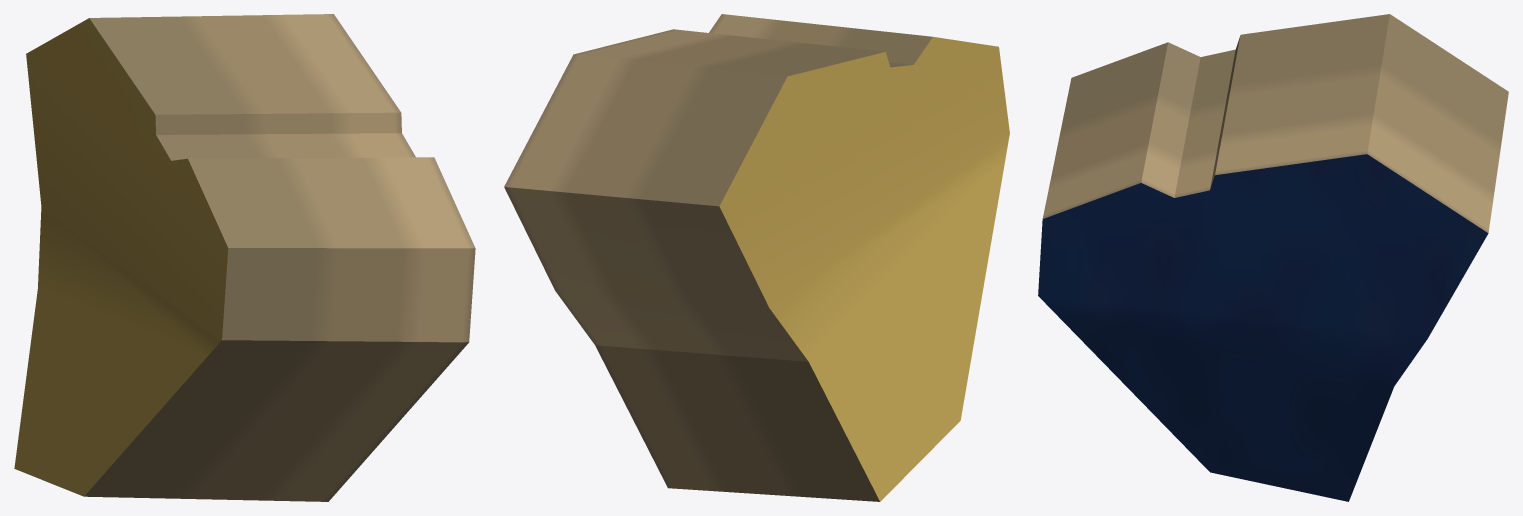
File: 05f5_Ecuador.glb
3 views of the same model, side by side, from view 1: azimuth 30°, elevation 25°; view 2: azimuth 150°, elevation 25°; view 3: azimuth 270°, elevation 25° (orthographic). The views are drawn at different scales.
Visible parts, largest first — view 1: part_0; view 2: part_0; view 3: part_0.
Part boxes in pixels (x1=…): part_0: x1=14, y1=14, x2=475, y2=501; part_0: x1=504, y1=14, x2=1009, y2=501; part_0: x1=1038, y1=14, x2=1508, y2=501.
Size of the model in its own units: 0.276 by 0.3827 by 0.3847.
Materials: 1 (1 with a texture image).
